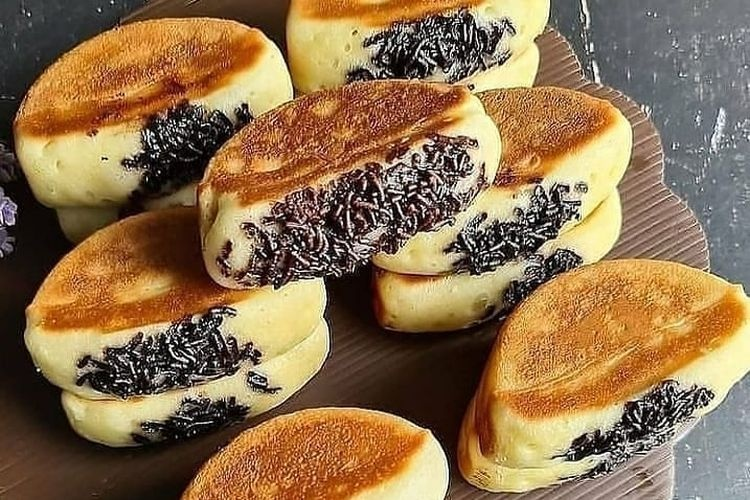pukis: (180, 67, 510, 294), (440, 259, 750, 477)
